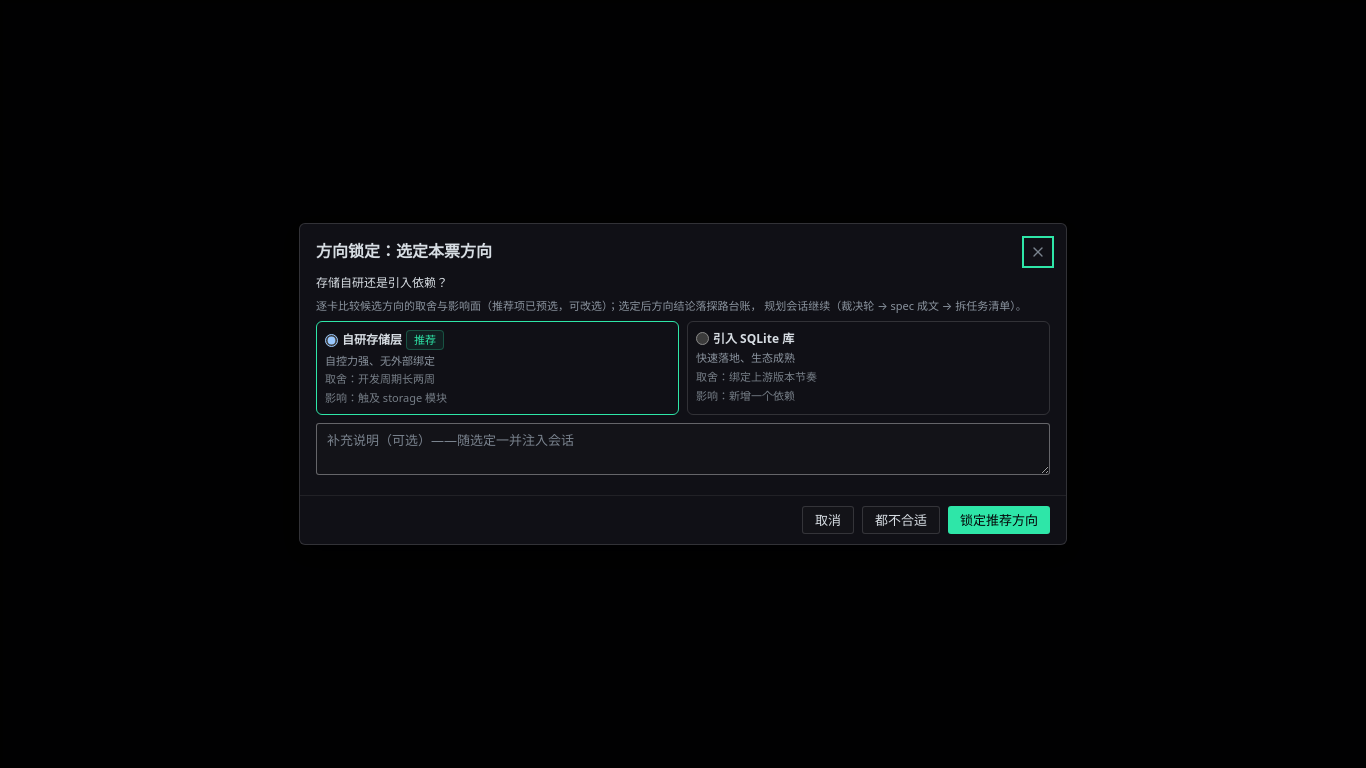
Test case: PlanDirectionDialog（#567 方向锁定表单） › 提交失败：弹窗保持打开 + 内联错误文案
What coordinates should you click on to do the following:
click the button "锁定推荐方向"
I would click on:
 (999, 520)
Its box is [948, 506, 1050, 534].
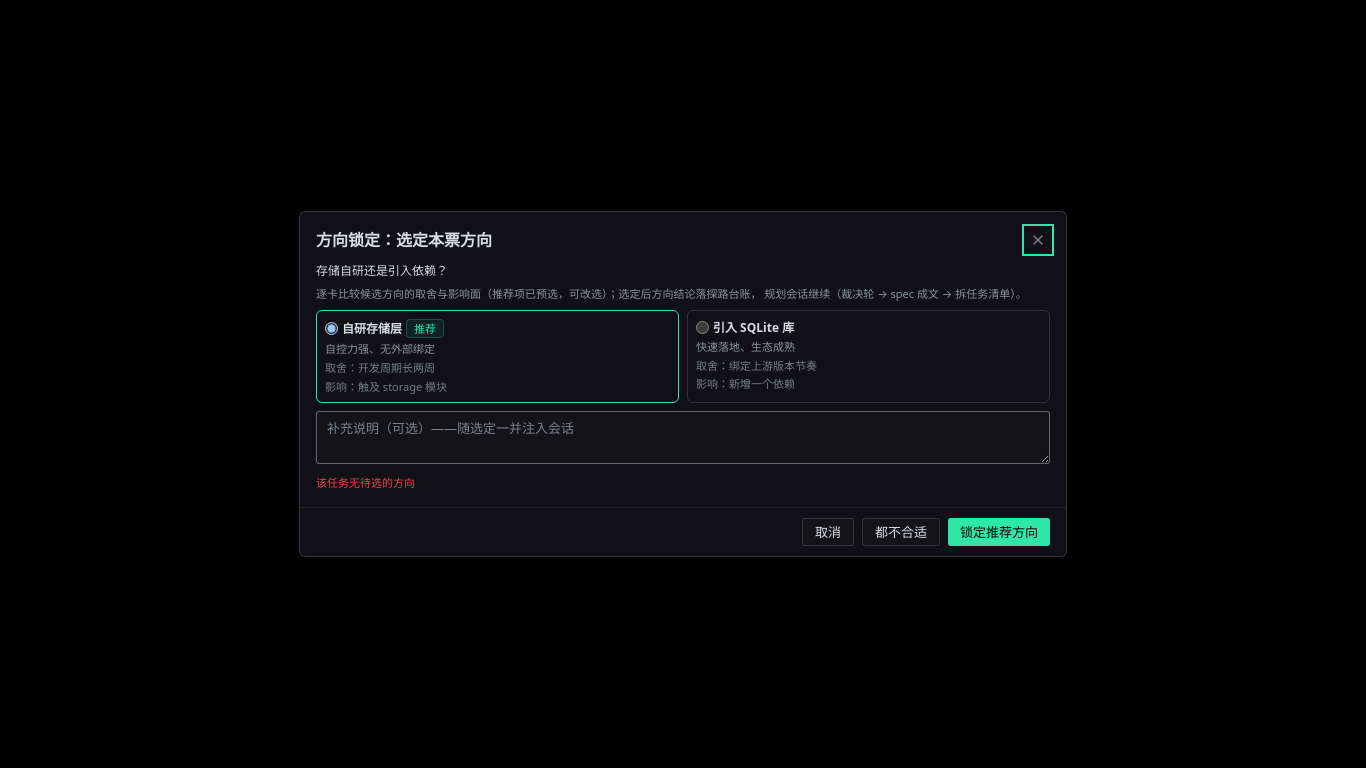
Expected: the button "锁定推荐方向" is shown, [948, 518, 1050, 546]
Expected: the text "该任务无待选的方向" is shown, [316, 475, 415, 490]
